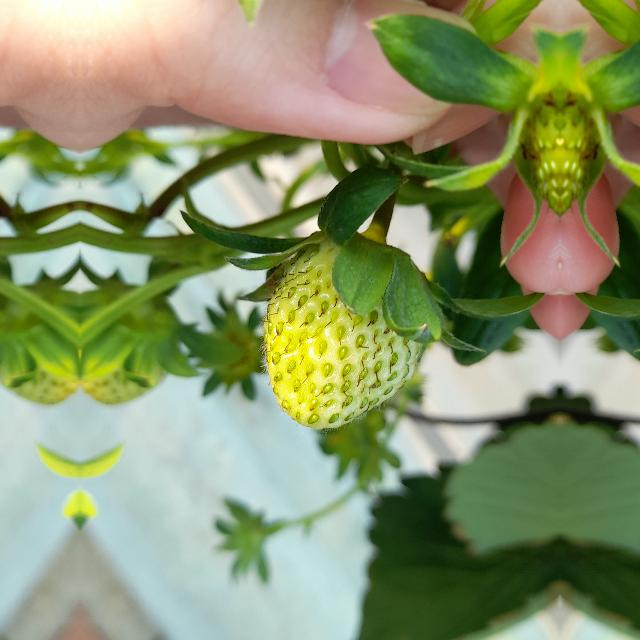Health_25: (260, 238, 424, 430)
